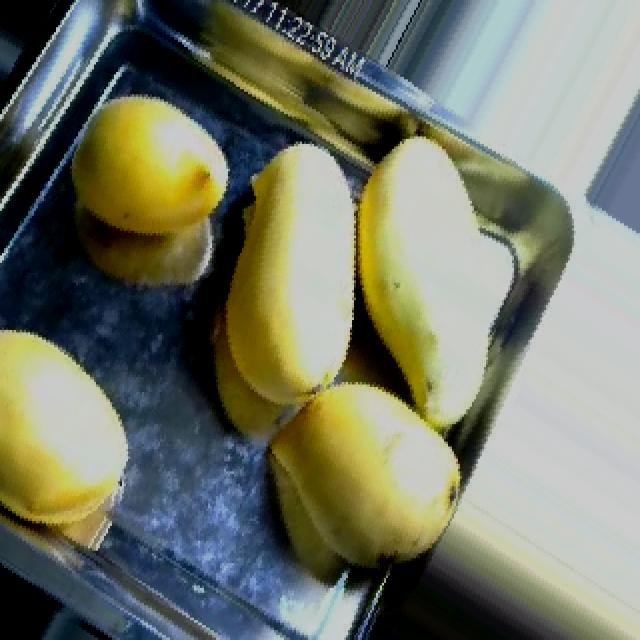Mango: (358, 136, 485, 428), (268, 382, 461, 568), (224, 144, 354, 407), (0, 331, 130, 524), (68, 98, 230, 236)
